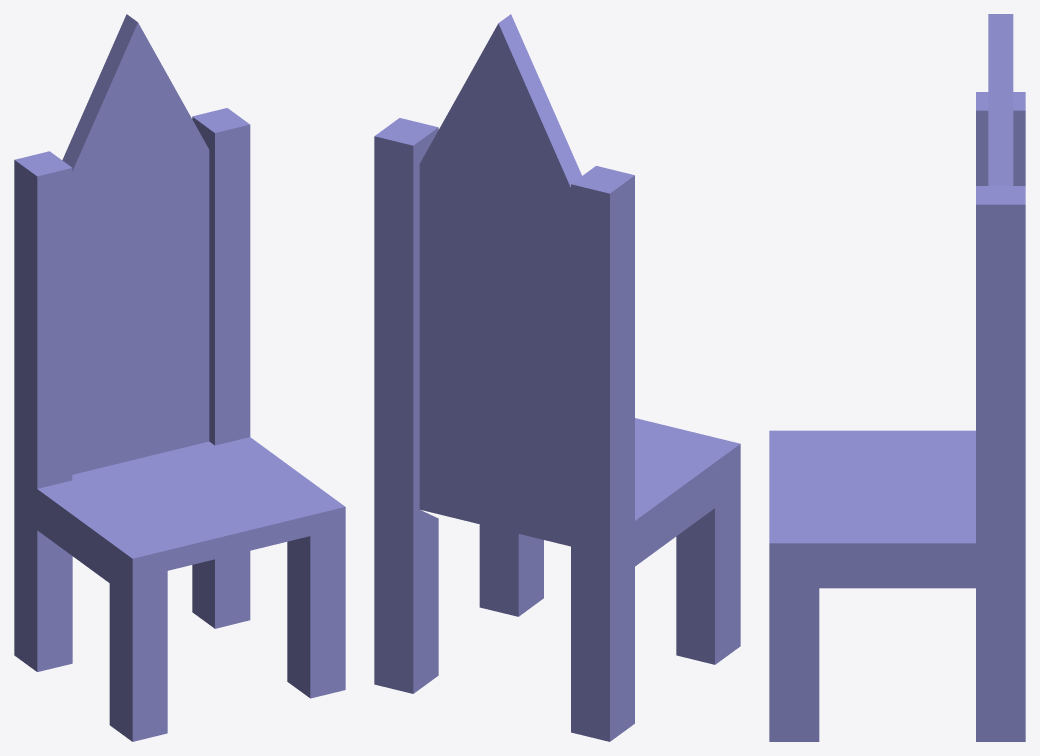
Rendered from chair_Hela.FBX.
The picture shows the model from 3 angles, left to right: view 1: azimuth 30°, elevation 25°; view 2: azimuth 150°, elevation 25°; view 3: azimuth 270°, elevation 25°; orthographic projection. The views are drawn at different scales.
Parts seen in each view (by area): view 1: chaise; view 2: chaise; view 3: chaise.
Boxes of the visible parts, x1,y1,x2,y2 form: chaise: [14, 14, 345, 741]; chaise: [374, 14, 740, 741]; chaise: [769, 14, 1025, 741].
Size of the model in its own units: 53.94 by 51.84 by 150.
